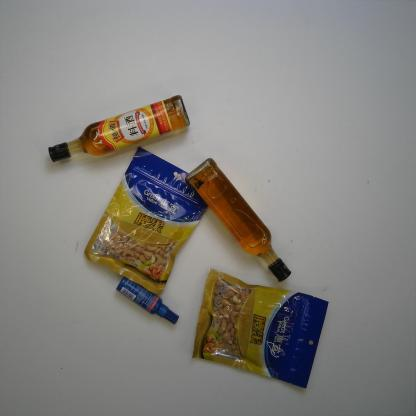Dried Fruit: (81, 142, 209, 296), (191, 266, 331, 392)
Personal Hygiene: (112, 278, 181, 326)
Seasoner: (182, 157, 292, 285), (47, 92, 191, 164)
